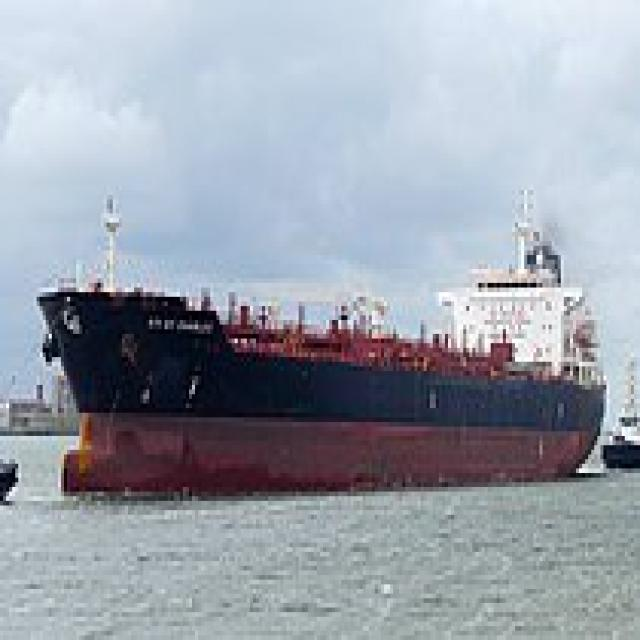Tanker: (31, 181, 606, 496)
